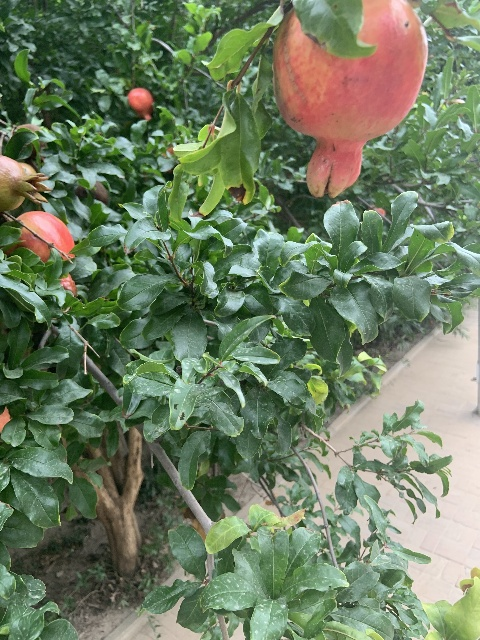mid-growth: (0, 154, 51, 211), (440, 567, 480, 639)
ripe: (272, 0, 428, 199), (6, 211, 76, 298), (127, 88, 153, 121)
